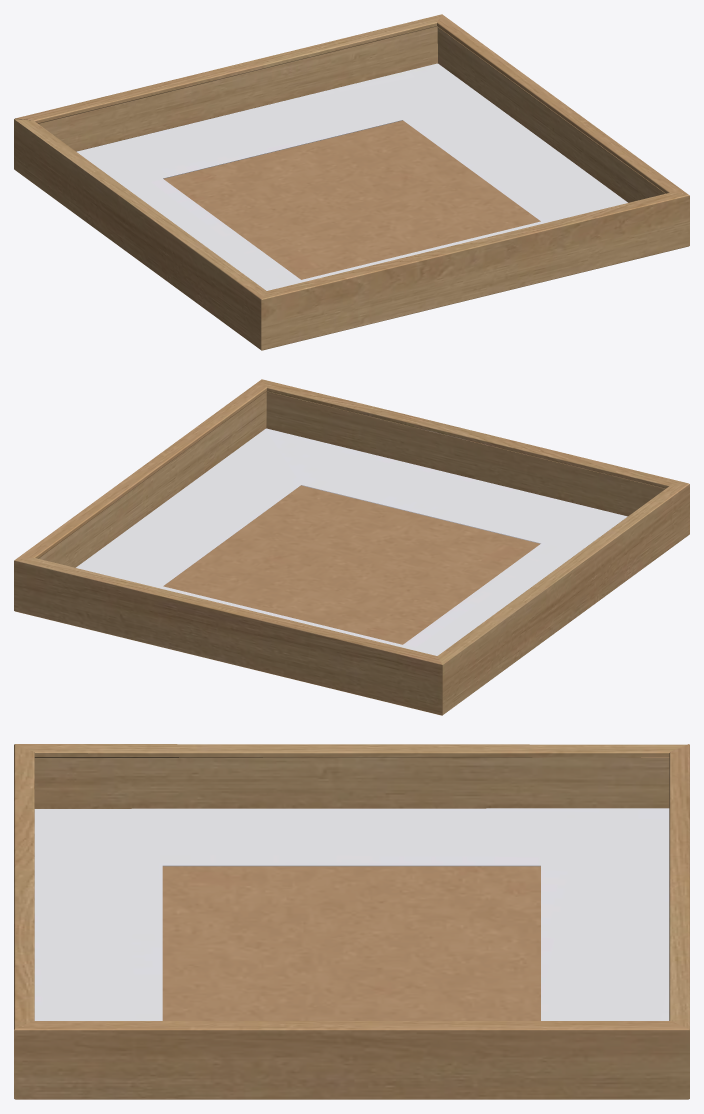
The model's file is frame-large-oak.glb.
3 renders of one model, top to bottom at view 1: azimuth 30°, elevation 25°; view 2: azimuth 150°, elevation 25°; view 3: azimuth 270°, elevation 25°, orthographic. The views are drawn at different scales.
Parts seen in each view (by area): view 1: ASY_ART_80568913_S01_NV01; view 2: ASY_ART_80568913_S01_NV01; view 3: ASY_ART_80568913_S01_NV01.
Part boxes in pixels (x1,y1,x2,y2): ASY_ART_80568913_S01_NV01: (14, 14, 689, 350); ASY_ART_80568913_S01_NV01: (14, 379, 689, 715); ASY_ART_80568913_S01_NV01: (14, 744, 689, 1099).
Size of the model in its own units: 0.518 by 0.0605 by 0.518.
Materials: 2 (1 with a texture image).
